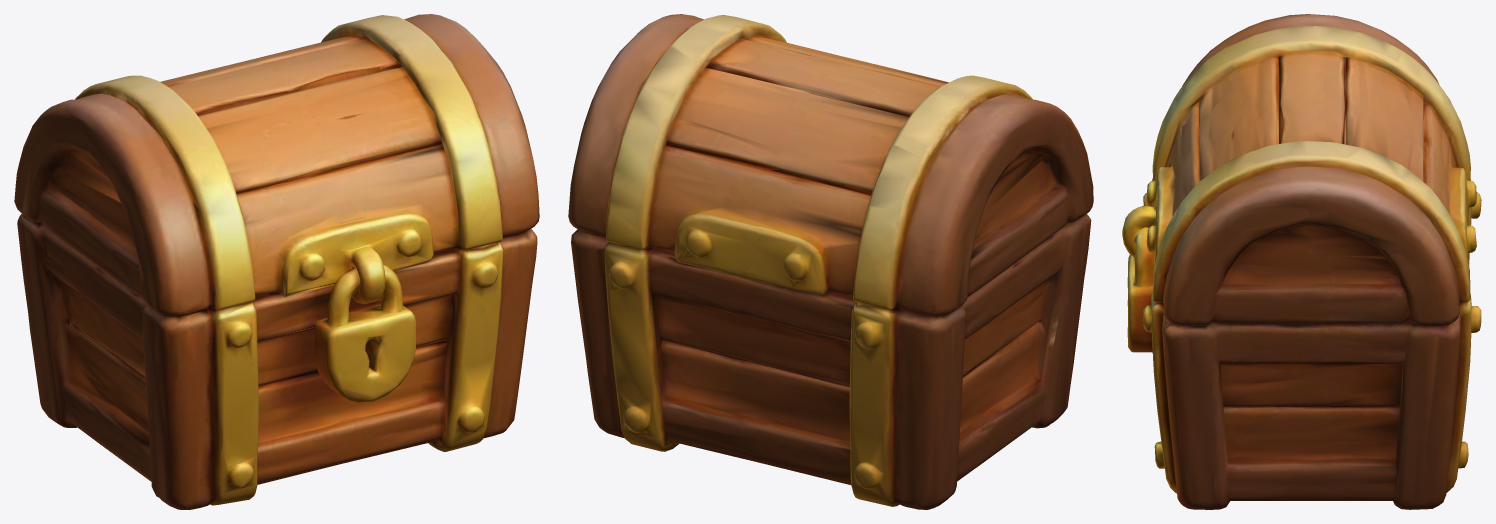
Rendered from chest-closed.glb.
The picture shows the model from 3 angles, left to right: view 1: azimuth 30°, elevation 25°; view 2: azimuth 150°, elevation 25°; view 3: azimuth 270°, elevation 25°; orthographic projection. The views are drawn at different scales.
Visible parts, largest first — view 1: tripo_node_56b4980b-c46f-4c4c-be43-27bd76265289; view 2: tripo_node_56b4980b-c46f-4c4c-be43-27bd76265289; view 3: tripo_node_56b4980b-c46f-4c4c-be43-27bd76265289.
Part boxes in pixels (bbox=[...]): tripo_node_56b4980b-c46f-4c4c-be43-27bd76265289: bbox=[14, 14, 539, 509]; tripo_node_56b4980b-c46f-4c4c-be43-27bd76265289: bbox=[568, 14, 1093, 509]; tripo_node_56b4980b-c46f-4c4c-be43-27bd76265289: bbox=[1122, 14, 1481, 509].
Size of the model in its own units: 1 by 0.9158 by 0.8552.
Materials: 1 (1 with a texture image).
